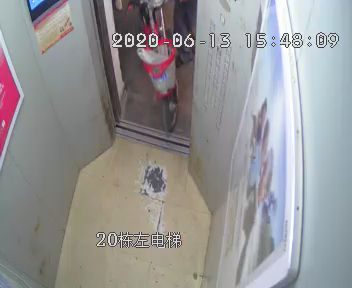Electric-bicycle: (127, 1, 182, 133)
